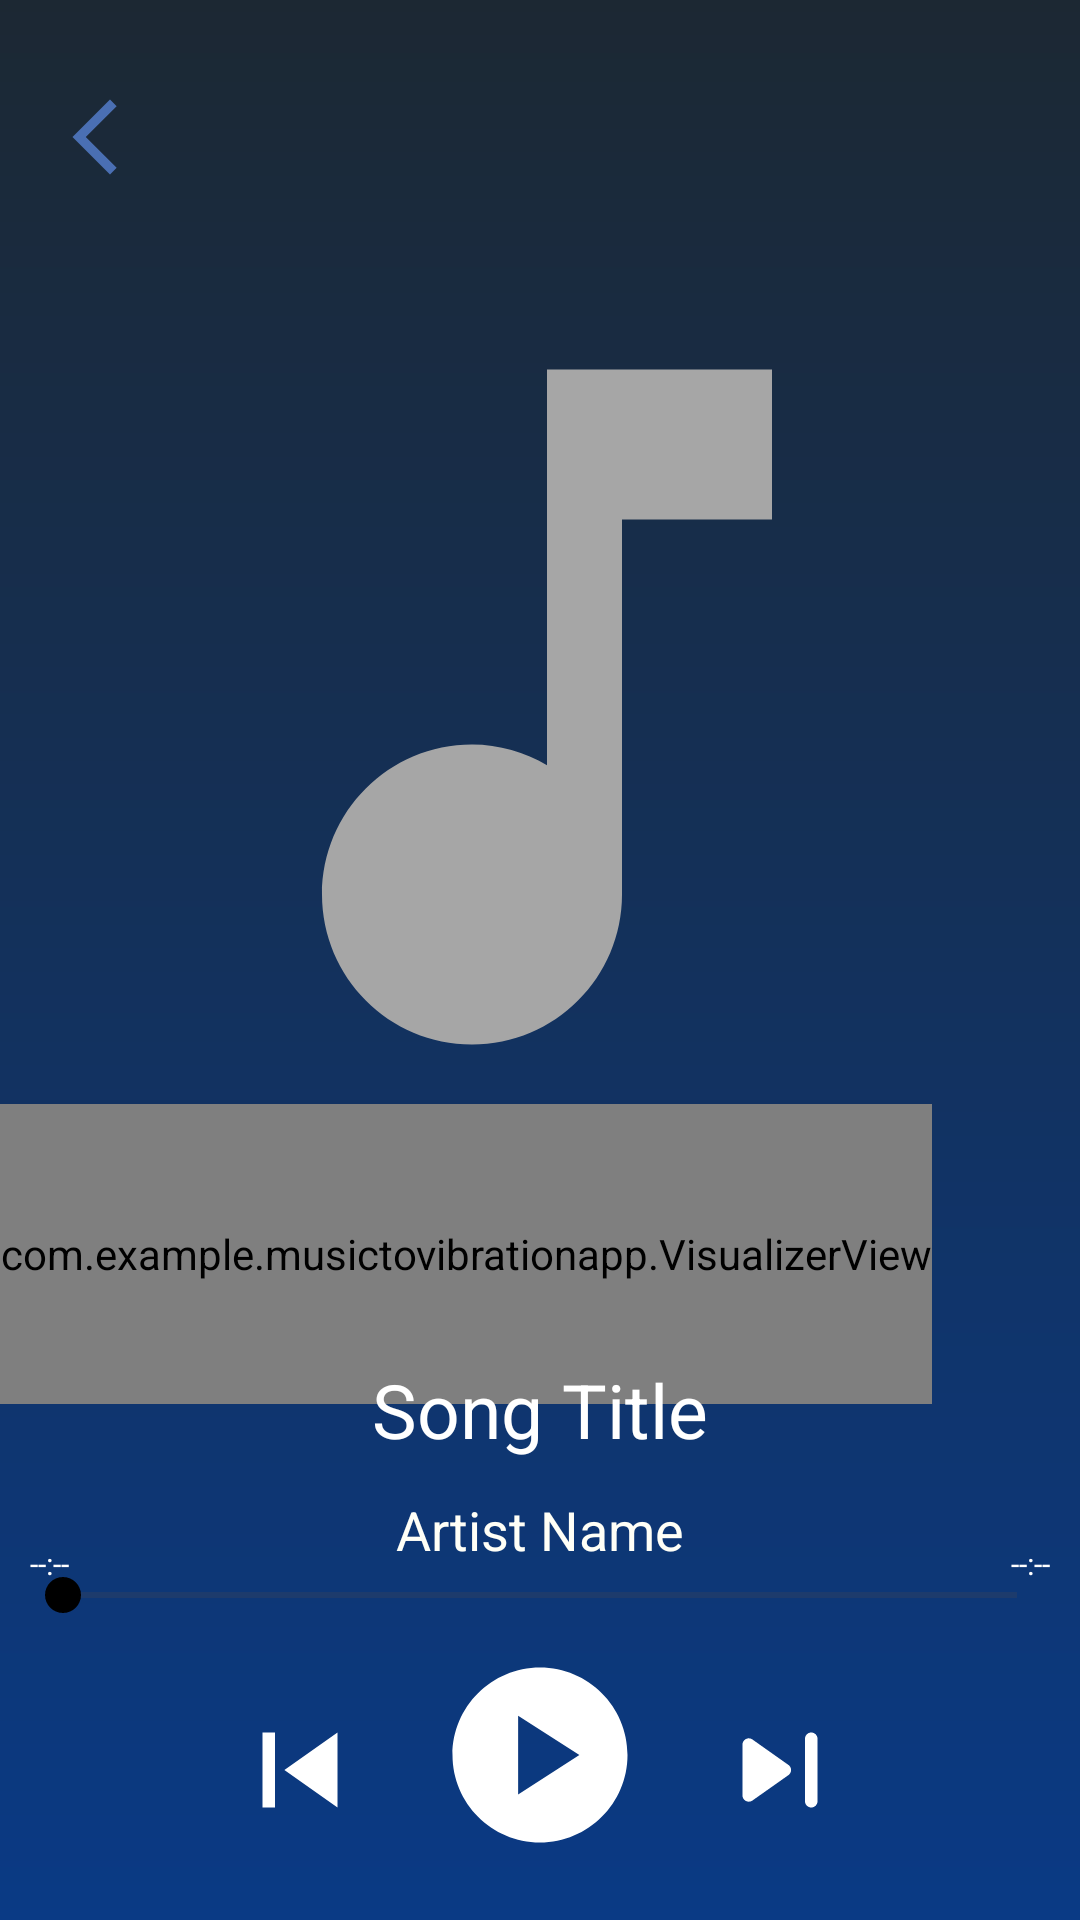

Icon click points for this 1080 x 1920 phone screenshot, format (x=x, y=y):
next: (x=780, y=1770)
Play/Pause Button: (x=540, y=1755)
previous: (x=300, y=1770)
